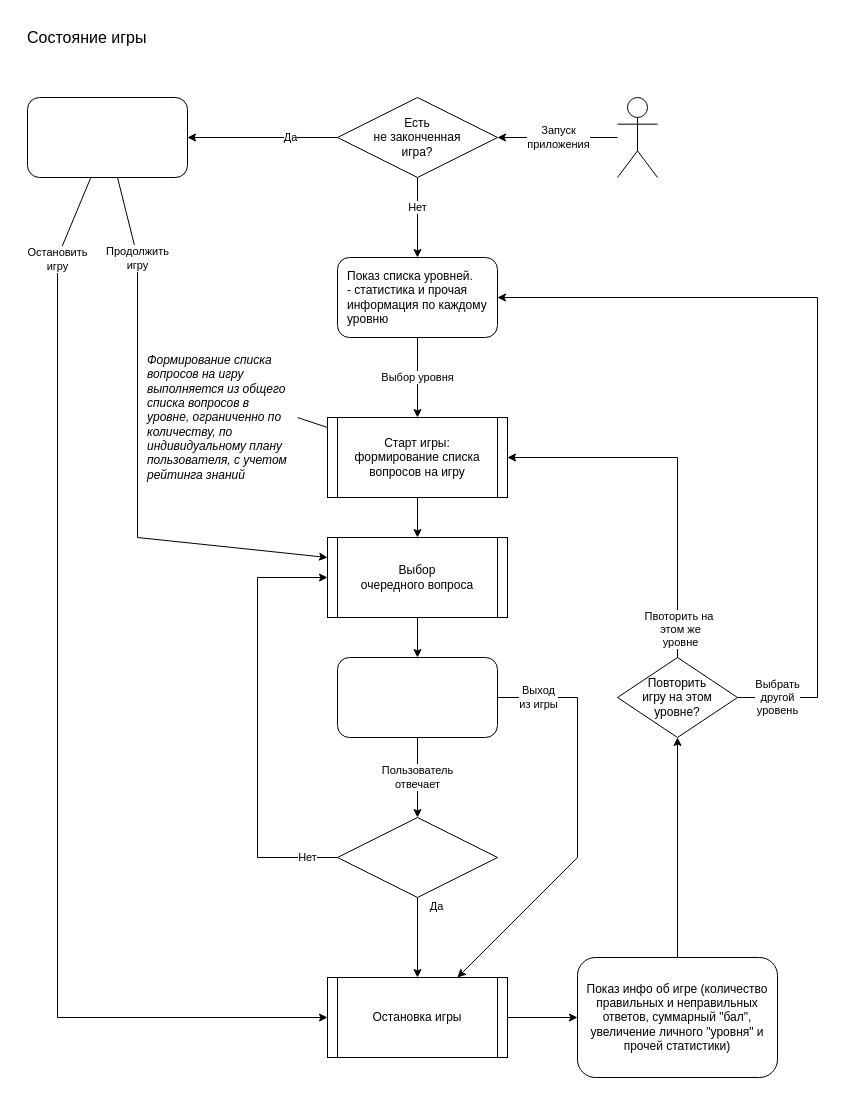
This 843x1095 diagram has some shape labels left out. Here are the shapes that lost their labels. From the top down, the centre of each, then its label:
the point at 107,137: Показ инфо об игре, предложение продолжить/остановить игру
the point at 637,137: Actor
the point at 417,697: Окно вопроса и вариантов ответа
the point at 417,857: Последний вопрос в игре?
